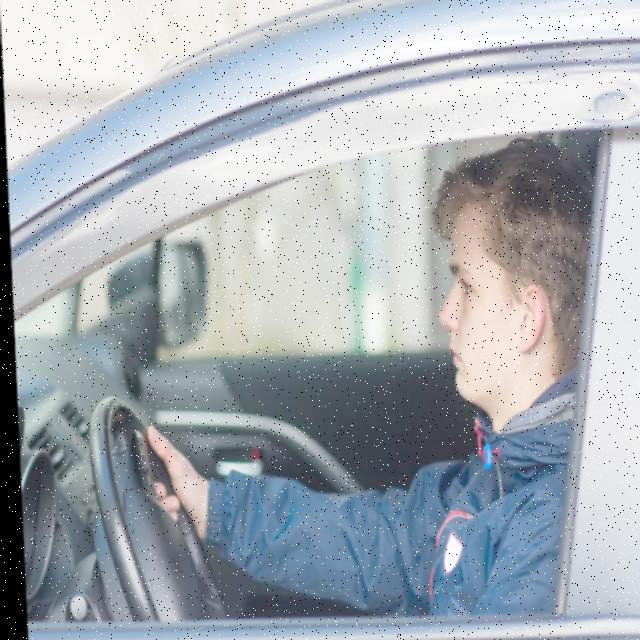noSeatbelt: (335, 356, 586, 630)
